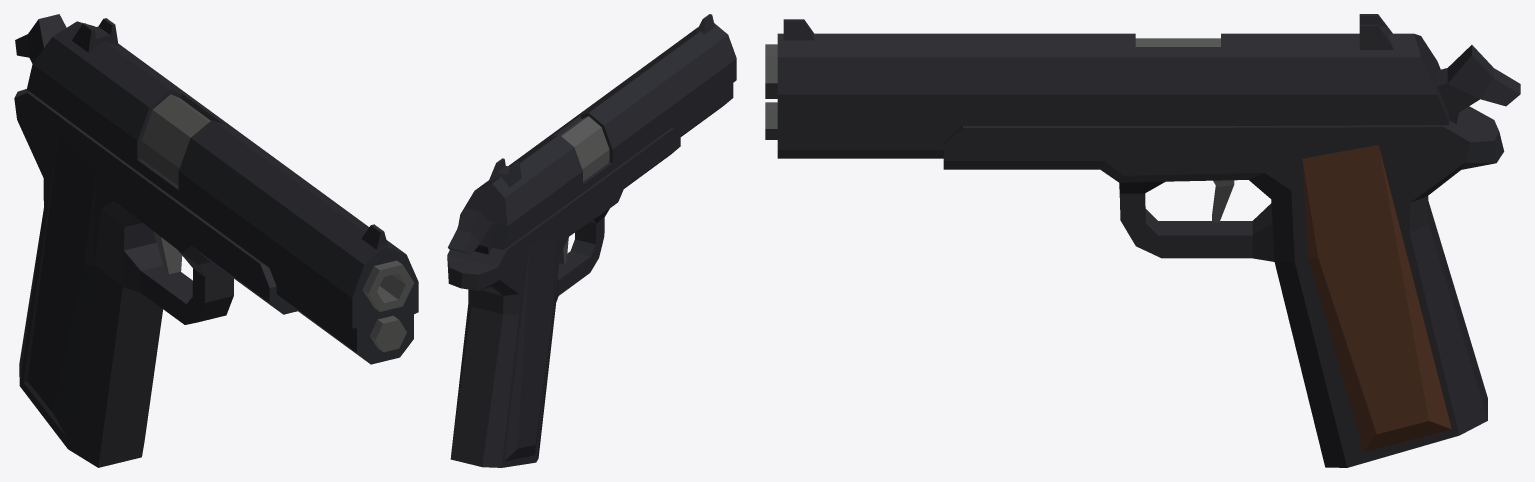
File: LPWarPack_Pistol.fbx
3 renders of one model, left to right at view 1: azimuth 30°, elevation 25°; view 2: azimuth 150°, elevation 25°; view 3: azimuth 270°, elevation 25°, orthographic. The views are drawn at different scales.
Parts seen in each view (by area): view 1: Pistol; view 2: Pistol; view 3: Pistol.
Boxes of the visible parts, box(x1,y1,x2,y2) form: Pistol: box(14, 14, 418, 467); Pistol: box(447, 14, 736, 467); Pistol: box(765, 14, 1520, 467).
Bounding box in the file's own units: 2.79 × 13.29 × 20.83.
